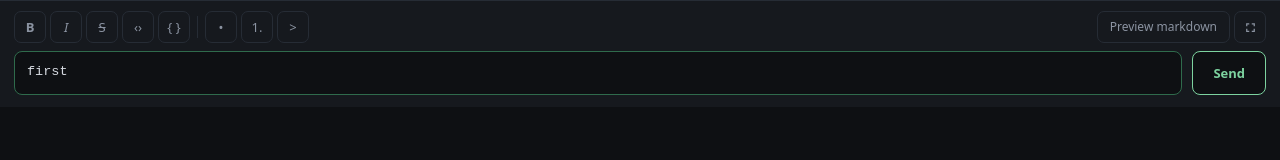
Scenario: the formatting toolbar › turns a line into a bulleted list from the toolbar
What coordinates should you click on to do the following:
click the button named "Bulleted list"
I would click on:
 (221, 27)
Its box is [205,11,237,43].
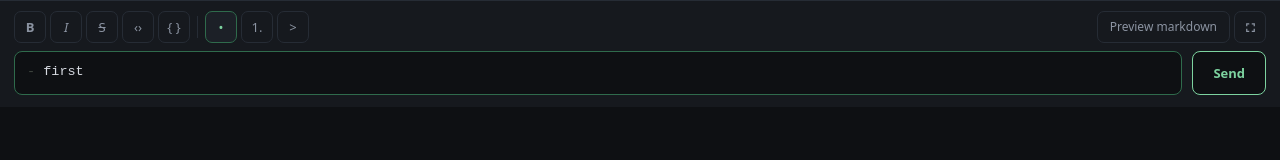
Check: the text box with class "cm-line" reads "- first", box [27,64,84,79]
